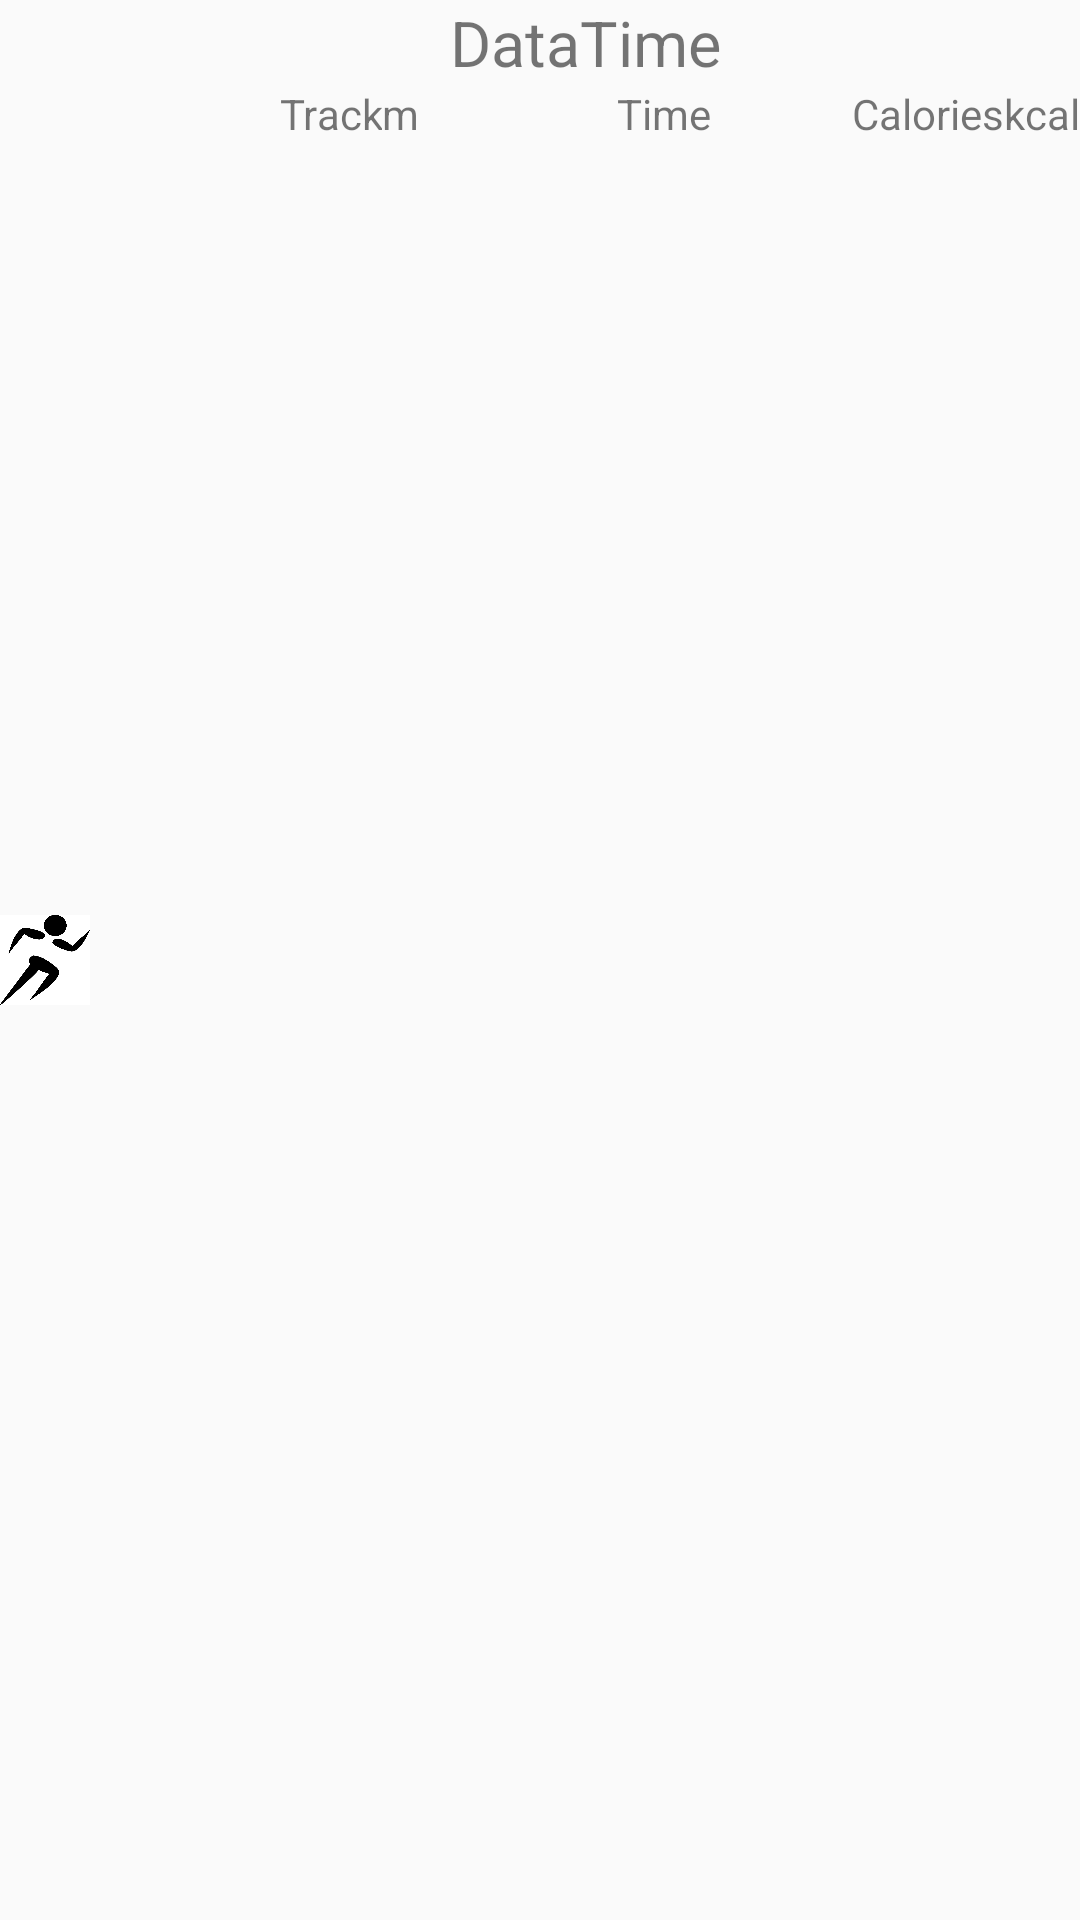

Screen size 1080w x 1920h. Icon name, then its center in pixels as (x,y):
run: (45,960)
